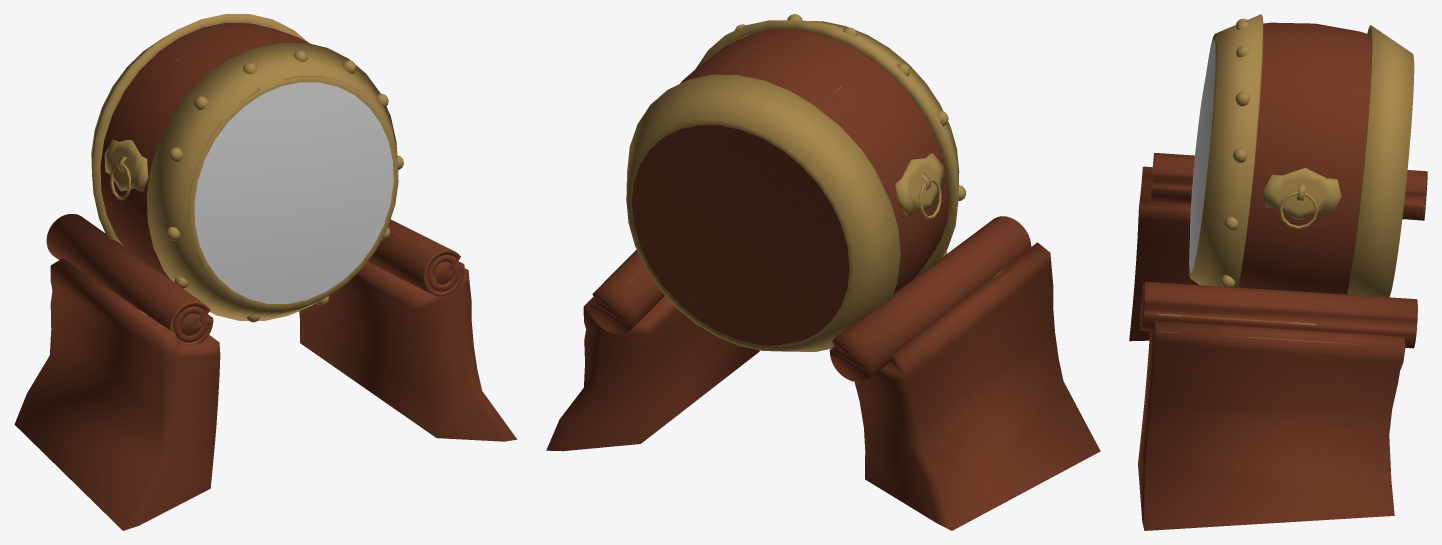
The model's file is Drum.fbx.
3 renders of one model, left to right at view 1: azimuth 30°, elevation 25°; view 2: azimuth 150°, elevation 25°; view 3: azimuth 270°, elevation 25°, orthographic. The views are drawn at different scales.
Parts seen in each view (by area): view 1: Drum, Bolts; view 2: Drum; view 3: Drum, Bolts.
Part boxes in pixels (bbox=[...]): Drum: bbox=[14, 14, 516, 530]; Bolts: bbox=[166, 50, 403, 322]; Drum: bbox=[546, 20, 1100, 530]; Drum: bbox=[1129, 14, 1427, 530]; Bolts: bbox=[1221, 18, 1250, 287].
Bounding box in the file's own units: 1949 × 1866 × 1244.
